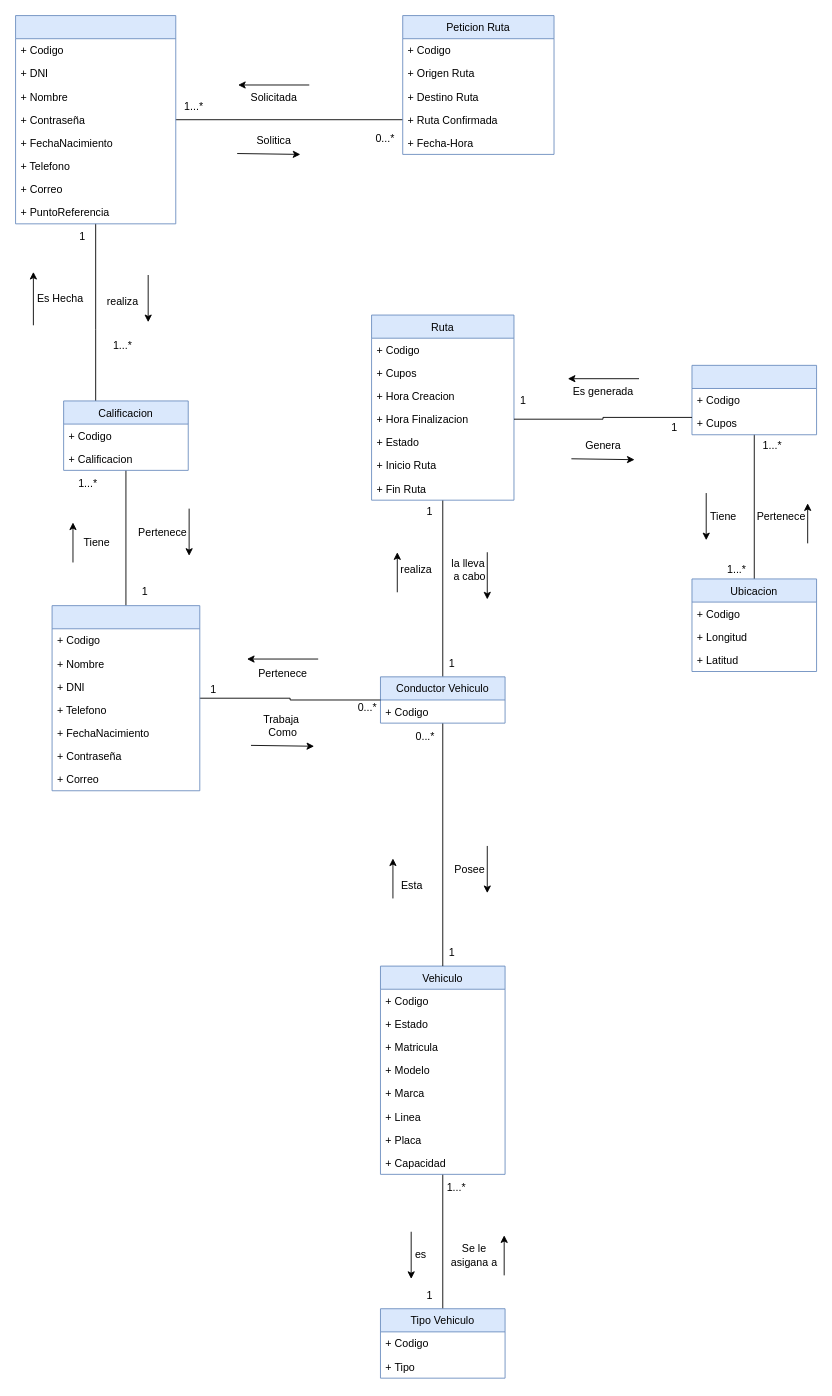
Image size: 832x1396. Some labels were removed from this diagram. Each missing label, with the box of its shape:
Cliente: (15, 15, 176, 224)
Conductor: (51, 605, 200, 791)
Detalle Ruta: (691, 364, 817, 435)
